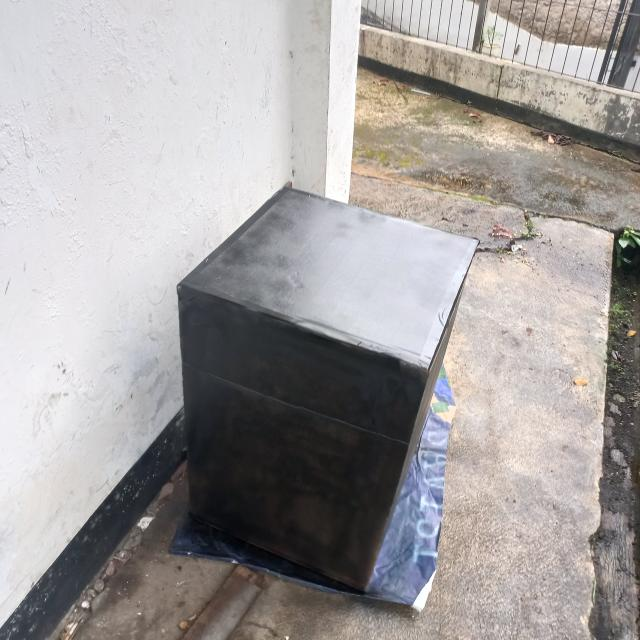obstacle: (176, 185, 481, 599)
